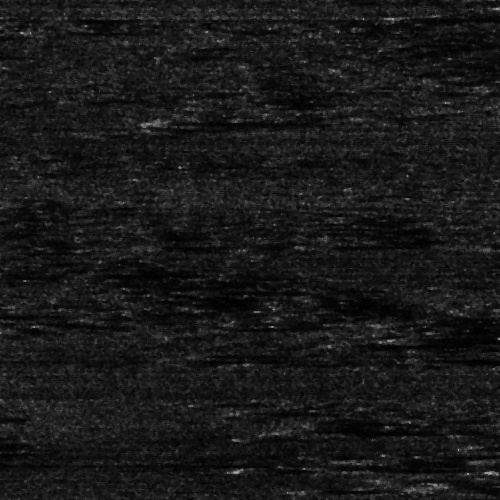object: (390, 479, 495, 496), (270, 419, 333, 440), (297, 458, 370, 473), (389, 329, 452, 344), (416, 351, 479, 360), (151, 114, 192, 127), (378, 11, 431, 20), (0, 27, 51, 34), (194, 407, 257, 412), (487, 464, 500, 473)
shadow: (302, 419, 474, 440), (333, 458, 473, 473), (172, 114, 313, 127), (421, 329, 500, 344), (442, 479, 500, 496), (405, 11, 500, 20), (15, 27, 113, 34), (226, 407, 326, 412), (447, 351, 500, 360), (340, 245, 453, 246)
